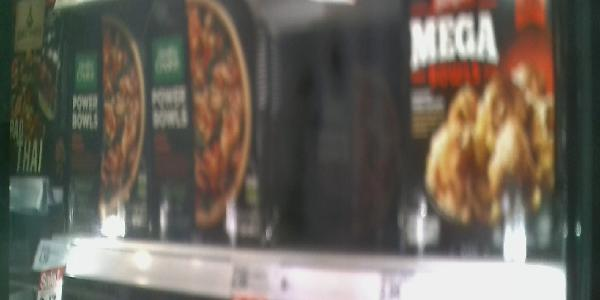pizza1: (409, 3, 564, 270), (100, 1, 198, 243), (199, 3, 289, 246), (8, 1, 99, 229)
